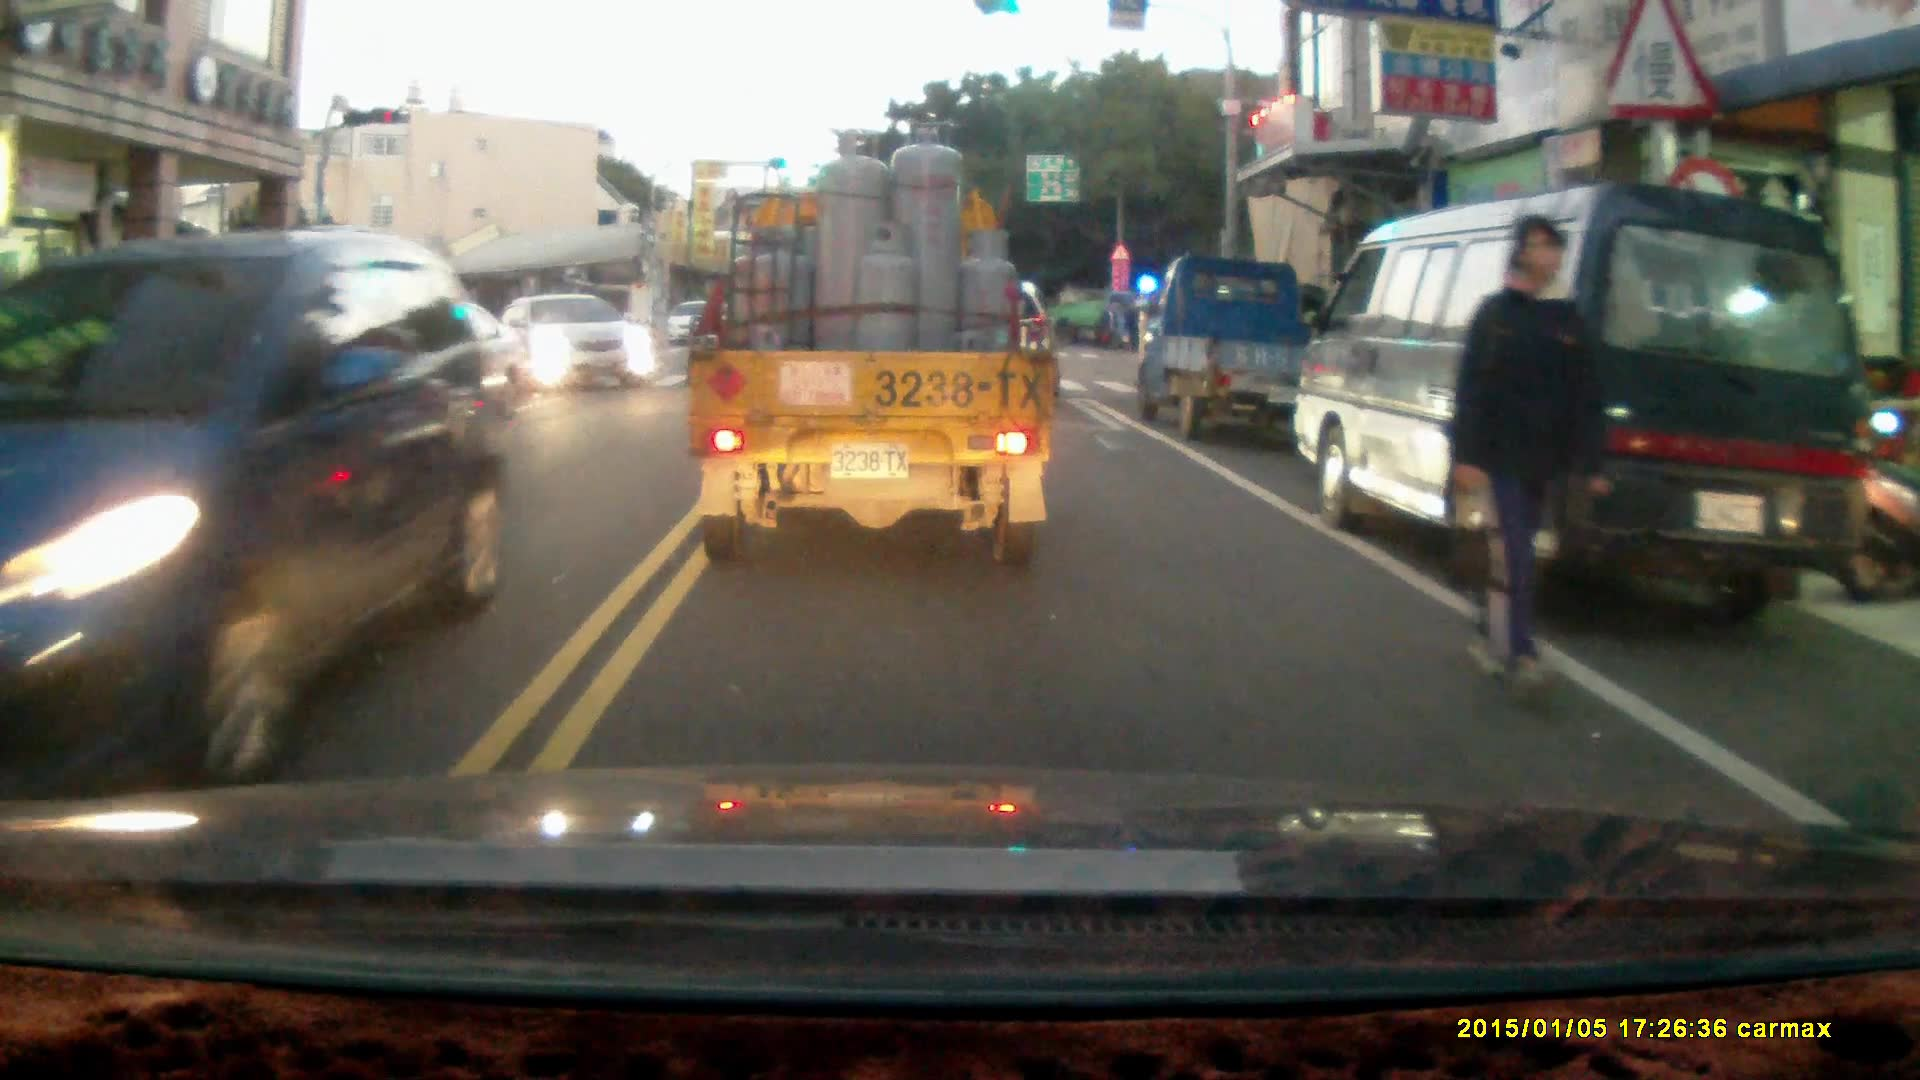pedestrian: (1448, 213, 1597, 700)
vehicle: (1, 229, 515, 805), (1294, 179, 1871, 628), (685, 124, 1055, 567), (247, 299, 516, 442), (1139, 252, 1322, 438), (496, 295, 649, 396)
